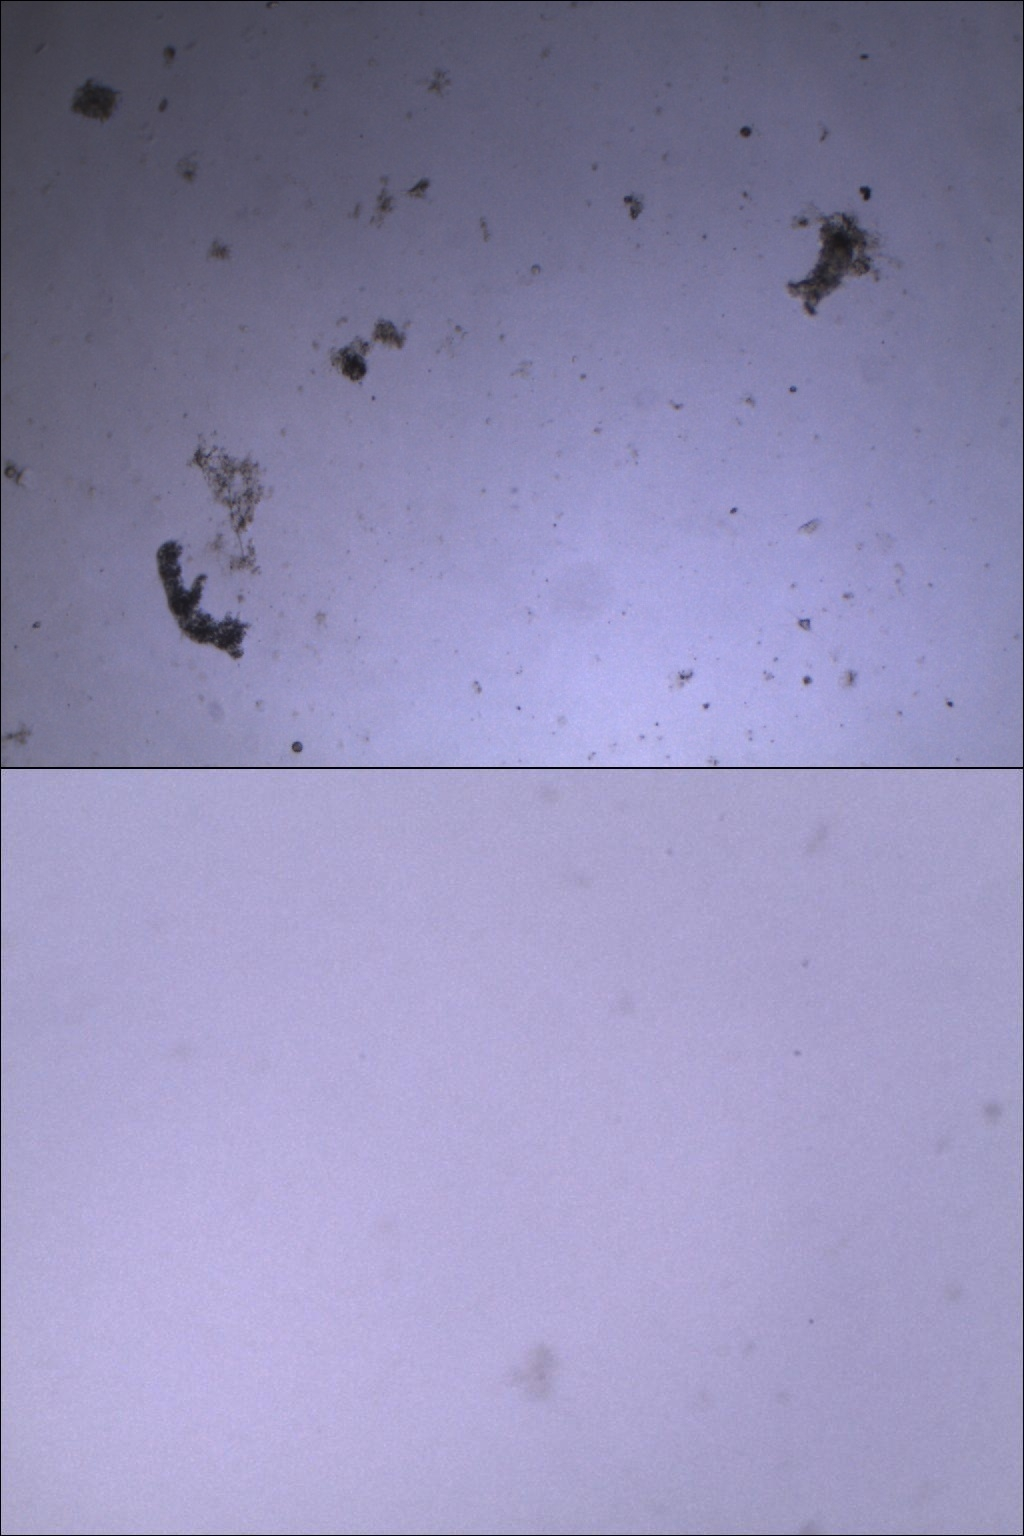N.Fowleri Amoeba: (479, 1329, 582, 1423)
Proteus Amoeba: (141, 528, 261, 674)
